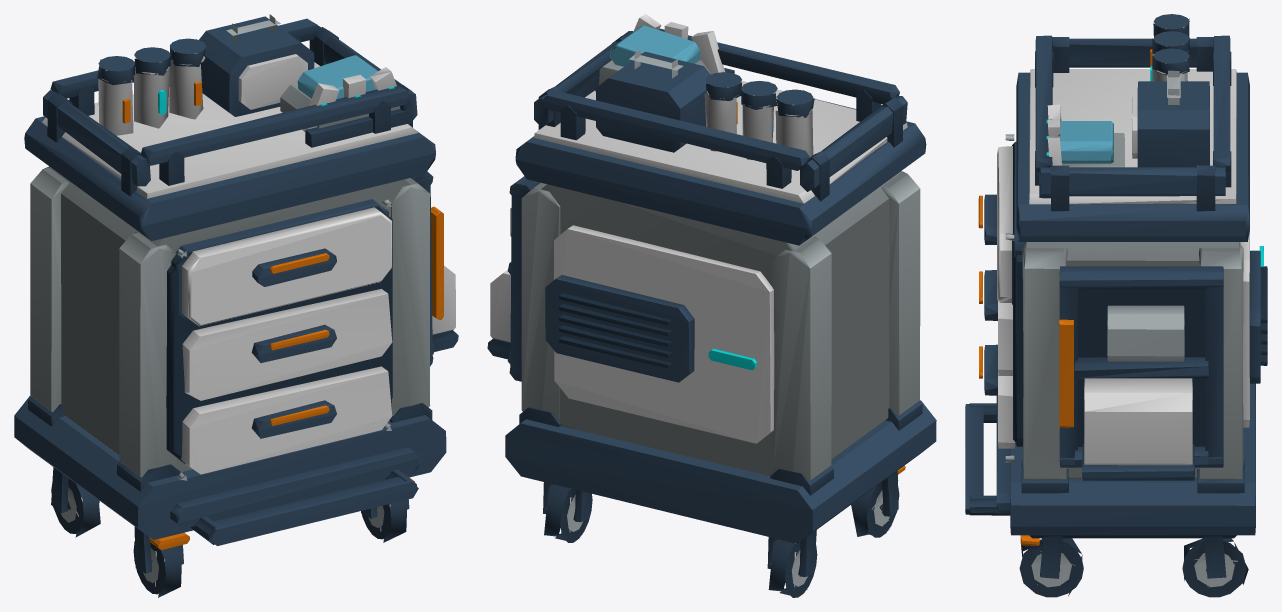
Rendered from chariot-infirmerie.glb.
3 renders of one model, left to right at view 1: azimuth 30°, elevation 25°; view 2: azimuth 150°, elevation 25°; view 3: azimuth 270°, elevation 25°, orthographic.
Visible parts, largest first — view 1: corps__bleu_nuit2, corps__gris_clair2, corps__gris_clair3, upper_supply_drawer__gris_clair3, corps__bleu_nuit3, upper_supply_drawer__bleu_nuit2, corps__bleu_nuit, corps__orange, corps__cyan, corps__gris_clair; view 2: corps__bleu_nuit2, corps__gris_clair2, corps__gris_clair3, corps__bleu_nuit, corps__bleu_nuit3, corps__cyan, corps__gris_clair, corps__lum_cyan; view 3: corps__bleu_nuit2, corps__gris_clair2, corps__gris_clair3, corps__bleu_nuit3, corps__bleu_nuit, upper_supply_drawer__gris_clair3, corps__cyan, corps__orange, corps__gris_clair, upper_supply_drawer__bleu_nuit2.
Boxes of the visible parts, x1,y1,x2,y2 form: corps__bleu_nuit2: (14, 16, 458, 573); corps__gris_clair2: (30, 83, 430, 477); corps__gris_clair3: (42, 53, 455, 474); upper_supply_drawer__gris_clair3: (182, 207, 391, 326); corps__bleu_nuit3: (166, 216, 392, 463); upper_supply_drawer__bleu_nuit2: (171, 199, 388, 322); corps__bleu_nuit: (51, 478, 407, 597); corps__orange: (122, 81, 443, 549); corps__cyan: (297, 55, 377, 99); corps__gris_clair: (61, 14, 392, 586); corps__bleu_nuit2: (487, 28, 936, 576); corps__gris_clair2: (510, 60, 920, 481); corps__gris_clair3: (490, 14, 907, 443); corps__bleu_nuit: (544, 480, 899, 597); corps__bleu_nuit3: (558, 293, 671, 368); corps__cyan: (610, 25, 700, 66); corps__gris_clair: (546, 49, 889, 587); corps__lum_cyan: (708, 120, 773, 370); corps__bleu_nuit2: (965, 14, 1260, 578); corps__gris_clair2: (1022, 133, 1243, 479); corps__gris_clair3: (998, 28, 1249, 465); corps__bleu_nuit3: (1013, 255, 1267, 538); corps__bleu_nuit: (1019, 538, 1248, 597); upper_supply_drawer__gris_clair3: (997, 146, 1012, 302); corps__cyan: (1058, 121, 1113, 163); corps__orange: (979, 49, 1153, 545); corps__gris_clair: (1005, 70, 1237, 587); upper_supply_drawer__bleu_nuit2: (984, 141, 1026, 304).
Bounding box in the file's own units: 0.7698 × 1 × 0.571.
